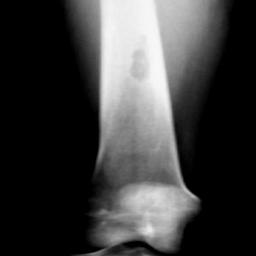cancer: (127, 42, 152, 88)
